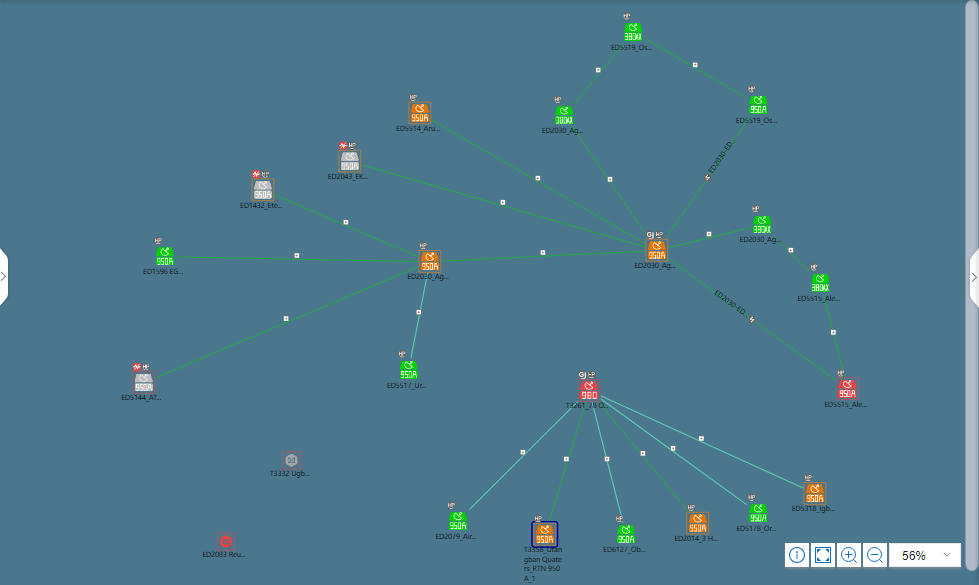Link_Blue: (603, 393, 802, 490), (603, 400, 745, 508), (468, 400, 574, 507), (590, 409, 626, 527), (407, 271, 427, 361)
Link_Green: (156, 265, 413, 377), (431, 118, 639, 240), (364, 161, 641, 251), (670, 259, 840, 386), (597, 400, 693, 510), (664, 118, 746, 236), (572, 124, 650, 239), (278, 192, 413, 254), (646, 39, 743, 97), (548, 400, 589, 514), (572, 45, 621, 103), (444, 247, 642, 260), (774, 234, 815, 276), (174, 253, 413, 260), (670, 228, 734, 251), (823, 303, 843, 374)
RTN_Gray: (254, 179, 277, 202), (340, 149, 363, 170), (132, 375, 153, 390)
RTN_Green: (621, 20, 644, 43), (554, 106, 577, 129), (750, 94, 772, 117), (811, 277, 834, 294), (156, 247, 173, 270), (750, 504, 766, 527), (615, 528, 638, 543), (450, 510, 465, 533), (756, 216, 772, 233), (401, 363, 416, 378)
RTN_Orange: (805, 485, 828, 508), (419, 253, 442, 276), (646, 240, 668, 263), (535, 522, 558, 543), (688, 516, 711, 533), (407, 106, 428, 121)
RTN_Red: (578, 381, 601, 404), (835, 381, 857, 398)
